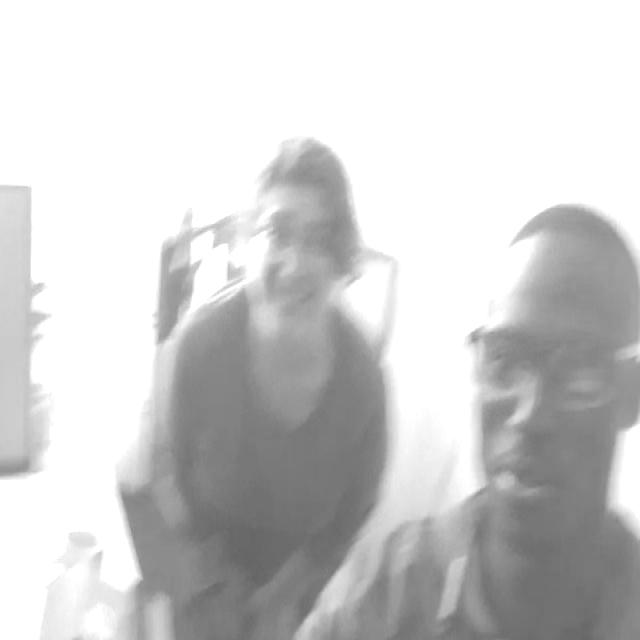real: (465, 223, 640, 556), (252, 177, 338, 343)
